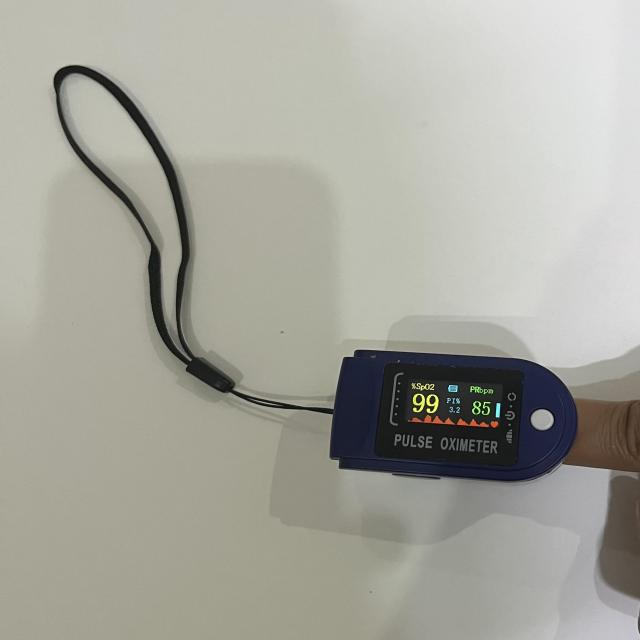spo2: (329, 345, 579, 483)
